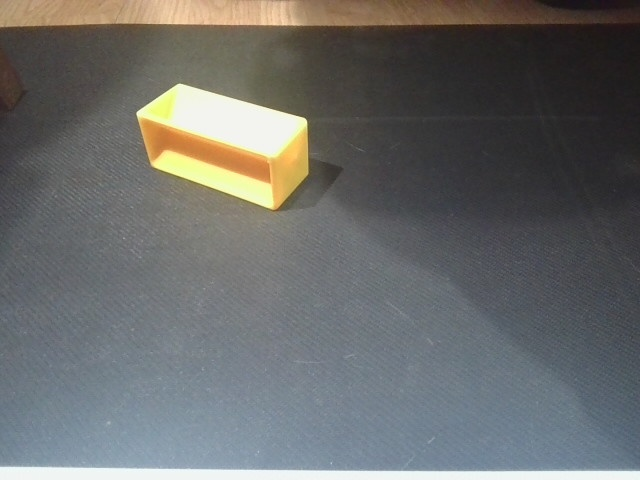YellowSample: (131, 79, 313, 214)
